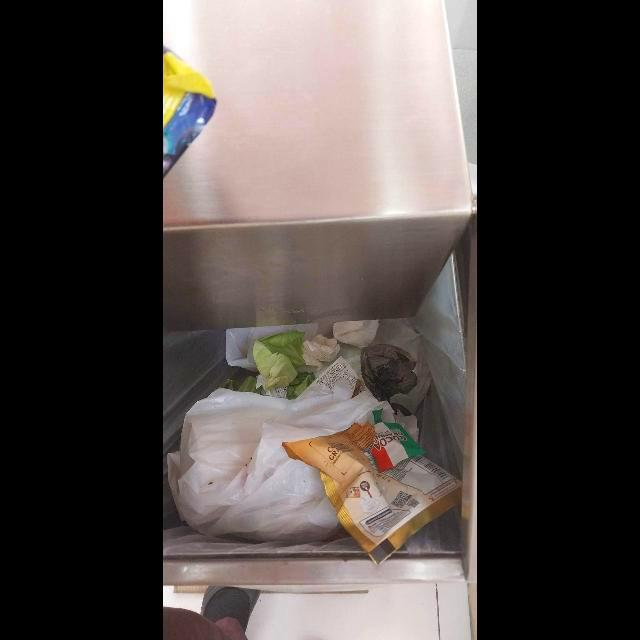food_wrapper: (281, 409, 462, 566)
paper: (331, 319, 381, 351), (302, 334, 341, 372)
plastic_bag: (166, 385, 397, 549), (360, 343, 418, 417)
